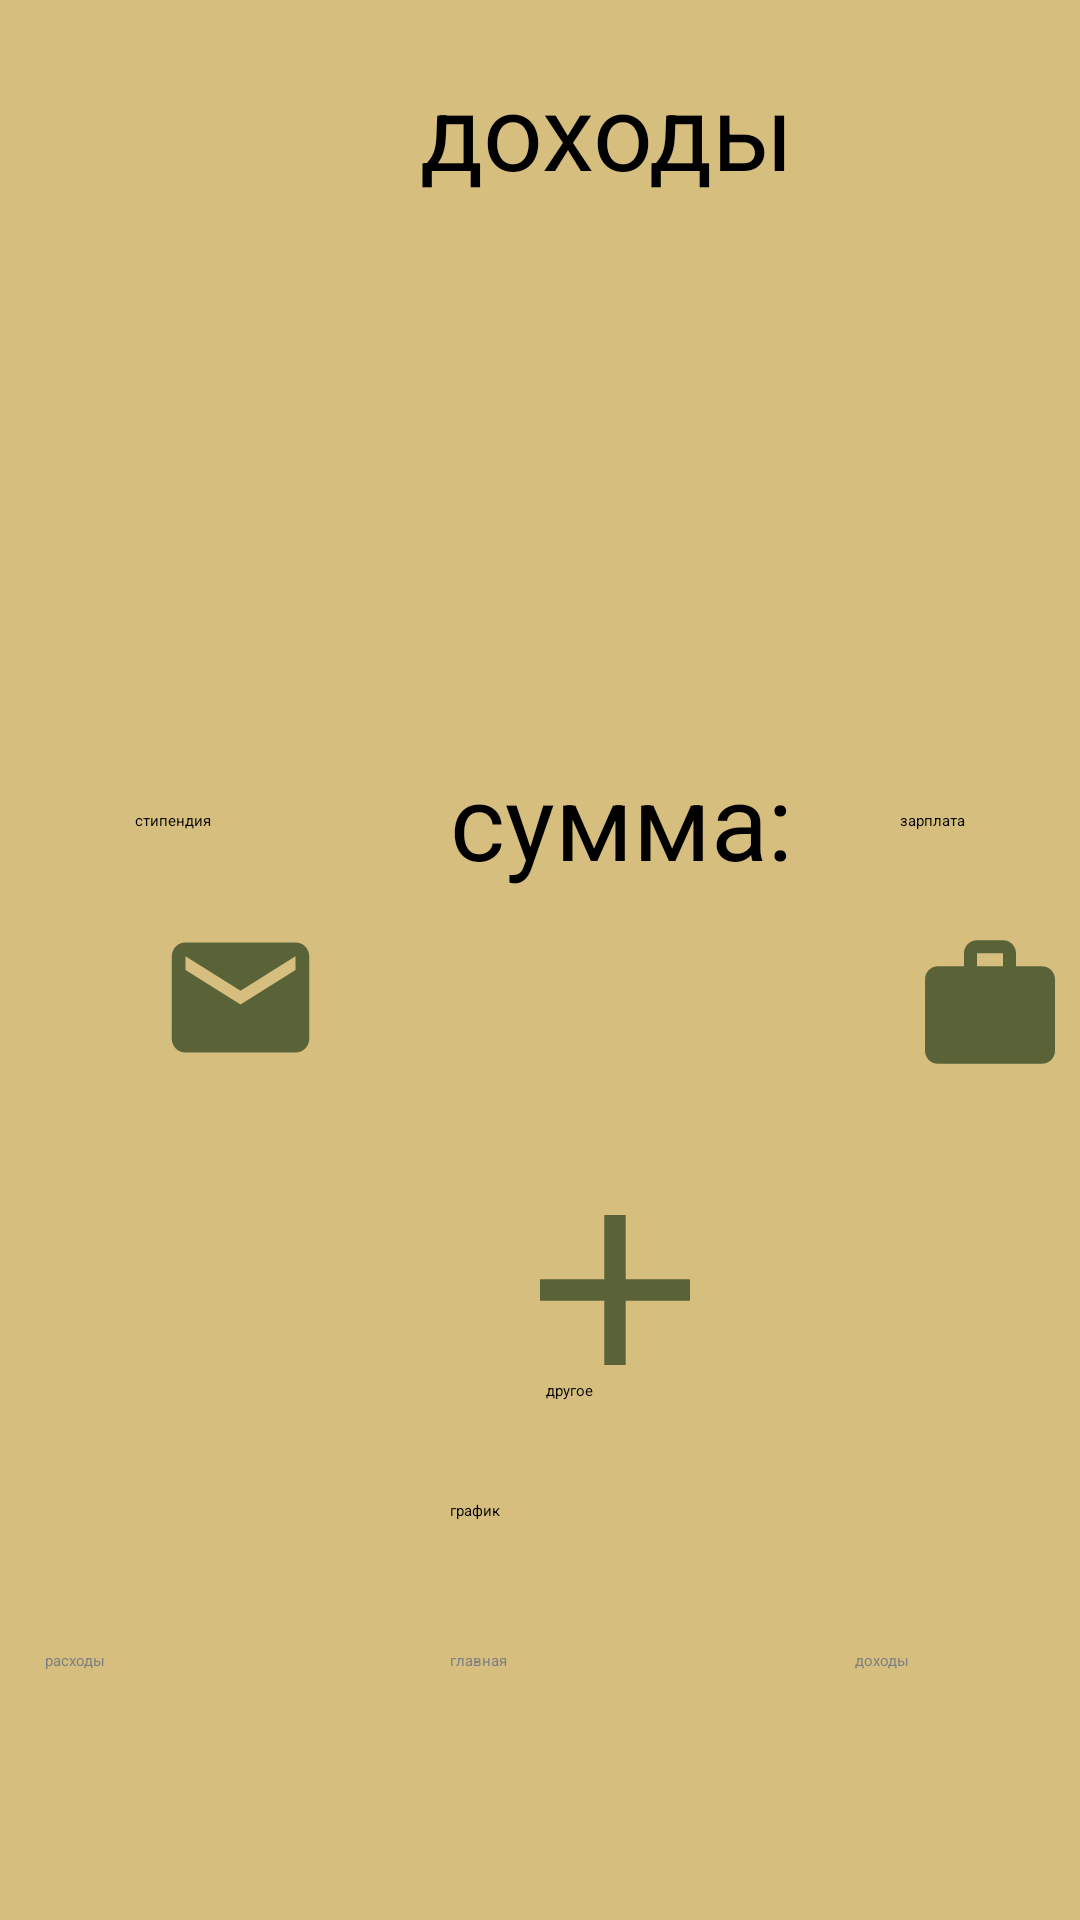

Icon bounding boxes for this 1080w x 1920h phone screenshot, format (x1, y1, x2, y2):
add: (540, 1215, 690, 1365)
salary: (925, 940, 1055, 1064)
